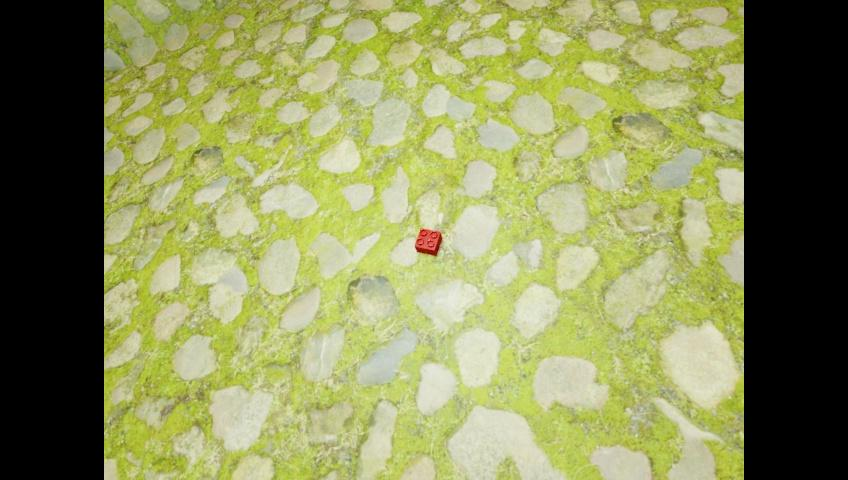2x2_red: (414, 227, 441, 255)
